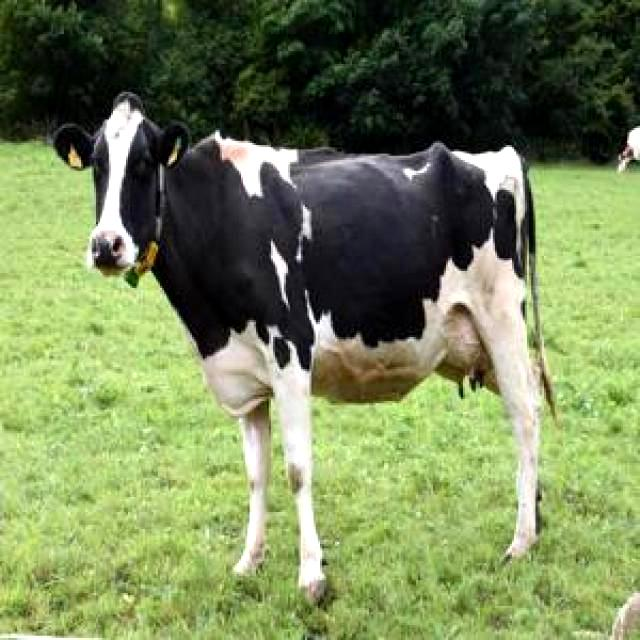COW: (55, 94, 545, 598)
